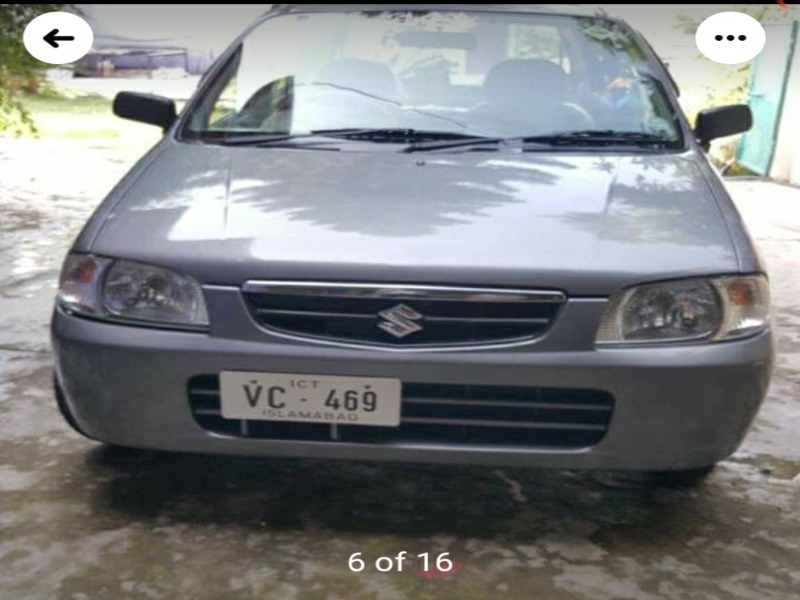License Plate: (216, 361, 405, 431)
